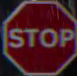Stop: (2, 2, 76, 75)
